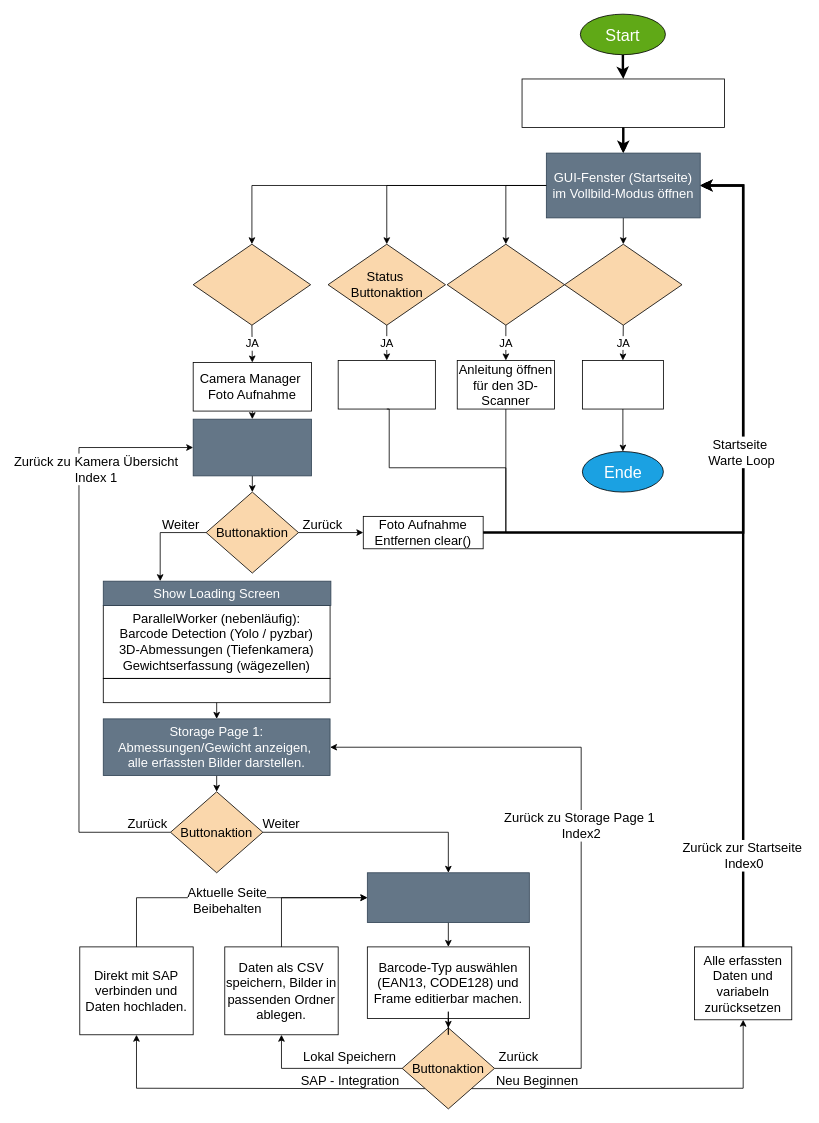
This 819x1123 diagram has some shape labels left out. The shapes that lost their labels are listed below. From the top down, each one's box as (x1, y1, x2, y2) in pixels, then its label:
(521, 78, 725, 128): Beleuchtung einschalten Kamera Kommunikation testen Waage Tarieren
(192, 243, 311, 325): Scan starten Buttonaktion
(446, 243, 565, 325): Instruction Buttonaktion
(564, 243, 682, 325): Programm Beenden
(337, 360, 435, 409): Jeweiliger Status Anzeigen
(582, 360, 663, 409): Beleuchtung aus
(192, 418, 311, 476): Kamera Übersicht Anzeige der Fotos
(102, 678, 330, 703): Close Loading Screen
(367, 872, 529, 923): Storage Page 2 Anzeige von Barcdoes falls vorhanden
